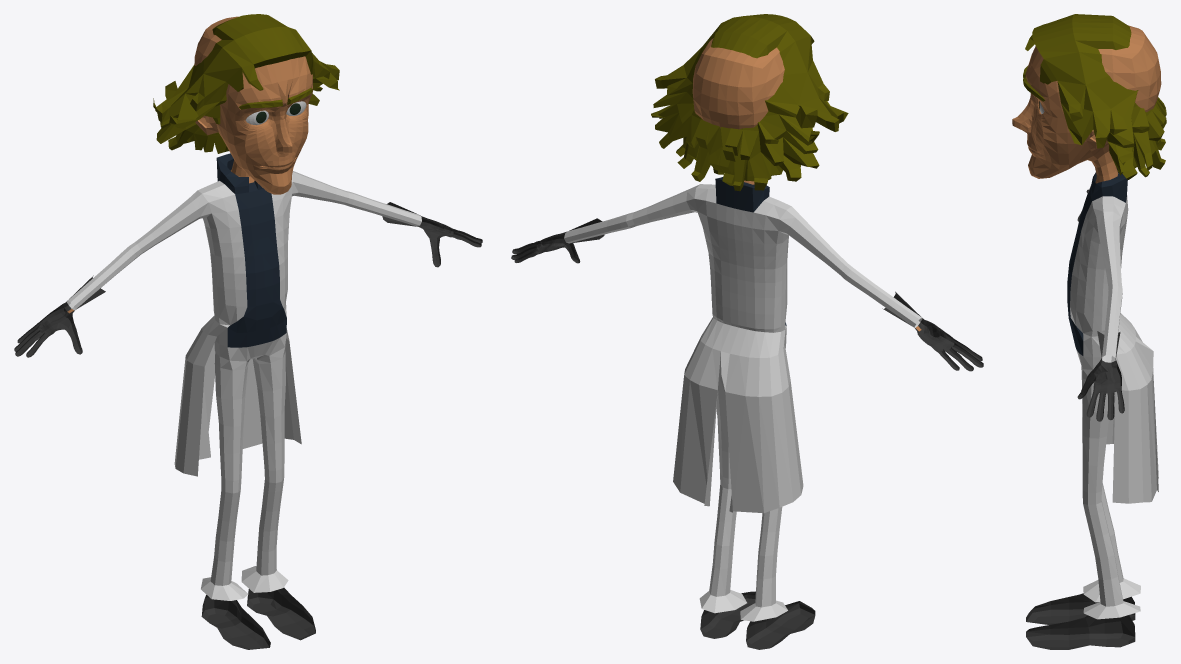
Rendered from toon_scientist.obj.
The picture shows the model from 3 angles, left to right: view 1: azimuth 30°, elevation 25°; view 2: azimuth 150°, elevation 25°; view 3: azimuth 270°, elevation 25°; orthographic projection.
Visible parts, largest first — view 1: toon_scientist_toon_scientist_Cloth_1, toon_scientist_toon_scientist_Hair, toon_scientist_toon_scientist_skin, toon_scientist_toon_scientist_Cloth_3, toon_scientist_toon_scientist_Cloth_2; view 2: toon_scientist_toon_scientist_Cloth_1, toon_scientist_toon_scientist_Hair, toon_scientist_toon_scientist_skin, toon_scientist_toon_scientist_Cloth_3, toon_scientist_toon_scientist_Cloth_2; view 3: toon_scientist_toon_scientist_Cloth_1, toon_scientist_toon_scientist_Hair, toon_scientist_toon_scientist_skin, toon_scientist_toon_scientist_Cloth_3, toon_scientist_toon_scientist_Cloth_2.
Part boxes in pixels (bbox=[...]): toon_scientist_toon_scientist_Cloth_1: bbox=[67, 171, 421, 600]; toon_scientist_toon_scientist_Hair: bbox=[153, 14, 339, 153]; toon_scientist_toon_scientist_skin: bbox=[67, 16, 312, 313]; toon_scientist_toon_scientist_Cloth_3: bbox=[14, 202, 482, 649]; toon_scientist_toon_scientist_Cloth_2: bbox=[216, 153, 286, 347]; toon_scientist_toon_scientist_Cloth_1: bbox=[564, 184, 922, 621]; toon_scientist_toon_scientist_Hair: bbox=[651, 14, 848, 191]; toon_scientist_toon_scientist_skin: bbox=[692, 38, 921, 331]; toon_scientist_toon_scientist_Cloth_3: bbox=[511, 218, 983, 649]; toon_scientist_toon_scientist_Cloth_2: bbox=[715, 177, 786, 325]; toon_scientist_toon_scientist_Cloth_1: bbox=[1070, 185, 1158, 619]; toon_scientist_toon_scientist_Hair: bbox=[1023, 14, 1166, 179]; toon_scientist_toon_scientist_skin: bbox=[1012, 25, 1161, 183]; toon_scientist_toon_scientist_Cloth_3: bbox=[1026, 189, 1135, 649]; toon_scientist_toon_scientist_Cloth_2: bbox=[1067, 168, 1127, 355].
Size of the model in its own units: 1.84 by 2.25 by 0.5188.
